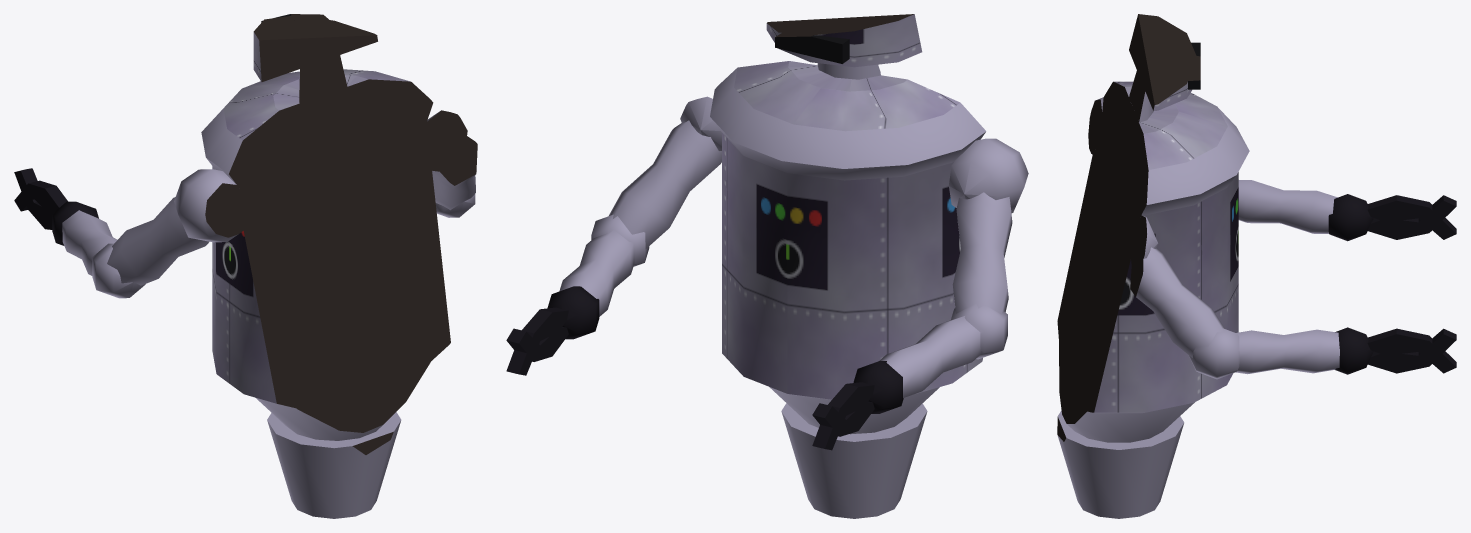
File: robot_sentinel_debris1.obj
The picture shows the model from 3 angles, left to right: view 1: azimuth 30°, elevation 25°; view 2: azimuth 150°, elevation 25°; view 3: azimuth 270°, elevation 25°; orthographic projection. The views are drawn at different scales.
Visible parts, largest first — view 1: body, thruster, upper_arm, shoulder, head, forearm, claw, elbow, neck, wrist; view 2: body, upper_arm, thruster, forearm, claw, shoulder, head, wrist, elbow, grille, neck; view 3: body, thruster, forearm, claw, upper_arm, head, wrist, elbow, shoulder, neck, grille.
Boxes of the visible parts, x1=… form: body: x1=201, y1=69, x2=450, y2=440; thruster: x1=267, y1=412, x2=401, y2=518; upper_arm: x1=107, y1=136, x2=477, y2=285; shoulder: x1=174, y1=110, x2=467, y2=242; head: x1=253, y1=16, x2=377, y2=81; forearm: x1=62, y1=210, x2=117, y2=275; claw: x1=14, y1=168, x2=67, y2=229; elbow: x1=92, y1=194, x2=475, y2=298; neck: x1=299, y1=49, x2=347, y2=107; wrist: x1=52, y1=201, x2=98, y2=245; body: x1=710, y1=61, x2=986, y2=434; upper_arm: x1=609, y1=120, x2=1012, y2=314; thruster: x1=781, y1=403, x2=927, y2=518; forearm: x1=559, y1=230, x2=981, y2=397; claw: x1=506, y1=307, x2=874, y2=450; shoulder: x1=680, y1=96, x2=1028, y2=213; head: x1=766, y1=14, x2=922, y2=67; wrist: x1=547, y1=286, x2=903, y2=413; elbow: x1=591, y1=214, x2=1007, y2=359; grille: x1=775, y1=31, x2=849, y2=63; neck: x1=817, y1=63, x2=880, y2=79; body: x1=1057, y1=81, x2=1249, y2=442; thruster: x1=1057, y1=410, x2=1184, y2=518; forearm: x1=1236, y1=180, x2=1339, y2=374; claw: x1=1367, y1=195, x2=1456, y2=373; upper_arm: x1=1130, y1=237, x2=1224, y2=357; head: x1=1129, y1=14, x2=1196, y2=111; wrist: x1=1328, y1=194, x2=1373, y2=374; elbow: x1=1189, y1=328, x2=1239, y2=379; shoulder: x1=1088, y1=97, x2=1157, y2=263; neck: x1=1128, y1=66, x2=1153, y2=122; grille: x1=1184, y1=42, x2=1200, y2=89.
Bounding box in the file's own units: 3.33 × 3.98 × 3.15.
Materials: 6 (1 with a texture image).
